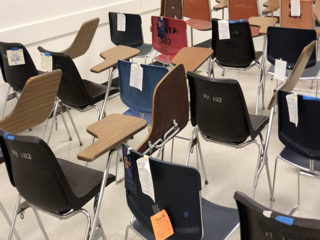Obstacle: (1, 1, 316, 239)
